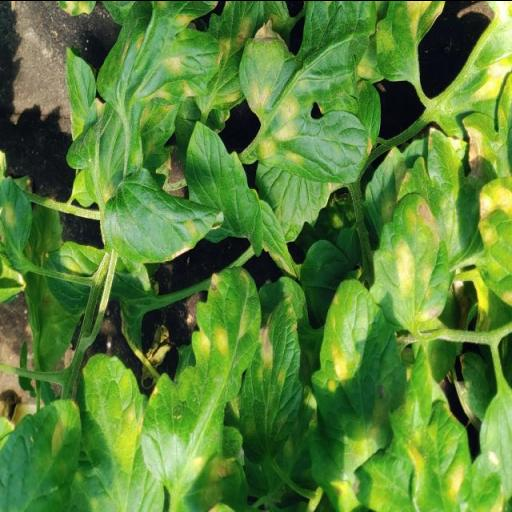disease_tomato: (238, 0, 406, 183), (140, 264, 262, 512), (94, 0, 258, 164), (310, 276, 408, 512), (102, 166, 226, 264), (368, 192, 449, 330), (239, 294, 303, 464)
